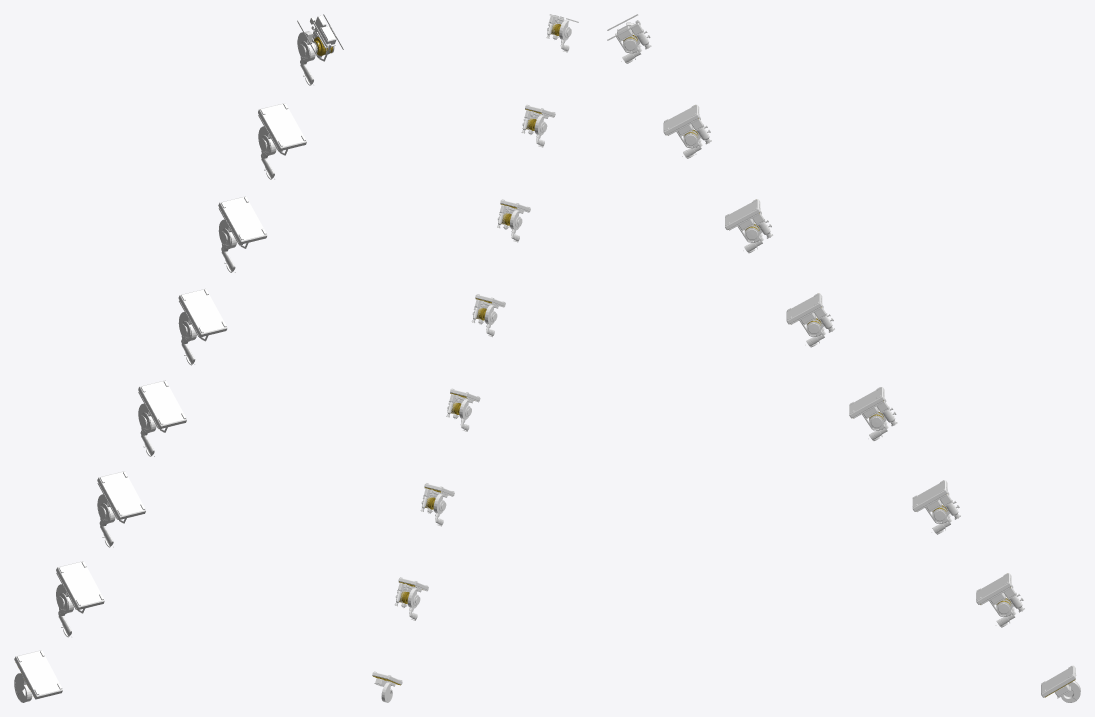
Rendered from xuanshu_interior_C29.glb.
3 views of the same model, side by side, from view 1: azimuth 30°, elevation 25°; view 2: azimuth 150°, elevation 25°; view 3: azimuth 270°, elevation 25° (orthographic). The views are drawn at different scales.
Visible parts, largest first — view 1: UNIT-MED-003_S0_S24903; view 2: UNIT-MED-003_S0_S24903; view 3: UNIT-MED-003_S0_S24903.
Part boxes in pixels (x1=…): UNIT-MED-003_S0_S24903: x1=14, y1=14, x2=343, y2=702; UNIT-MED-003_S0_S24903: x1=372, y1=14, x2=578, y2=702; UNIT-MED-003_S0_S24903: x1=607, y1=14, x2=1080, y2=702.
Bounding box in the file's own units: 0.276 × 8.13 × 5.09.
